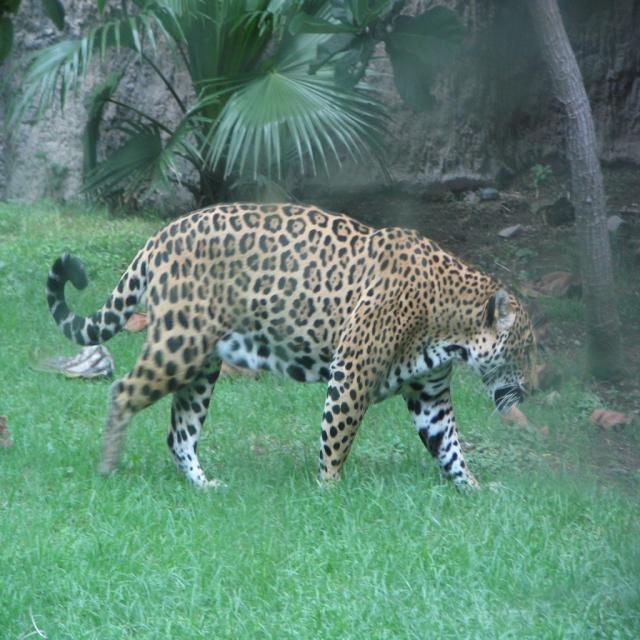Cheetah: (45, 202, 540, 498)
